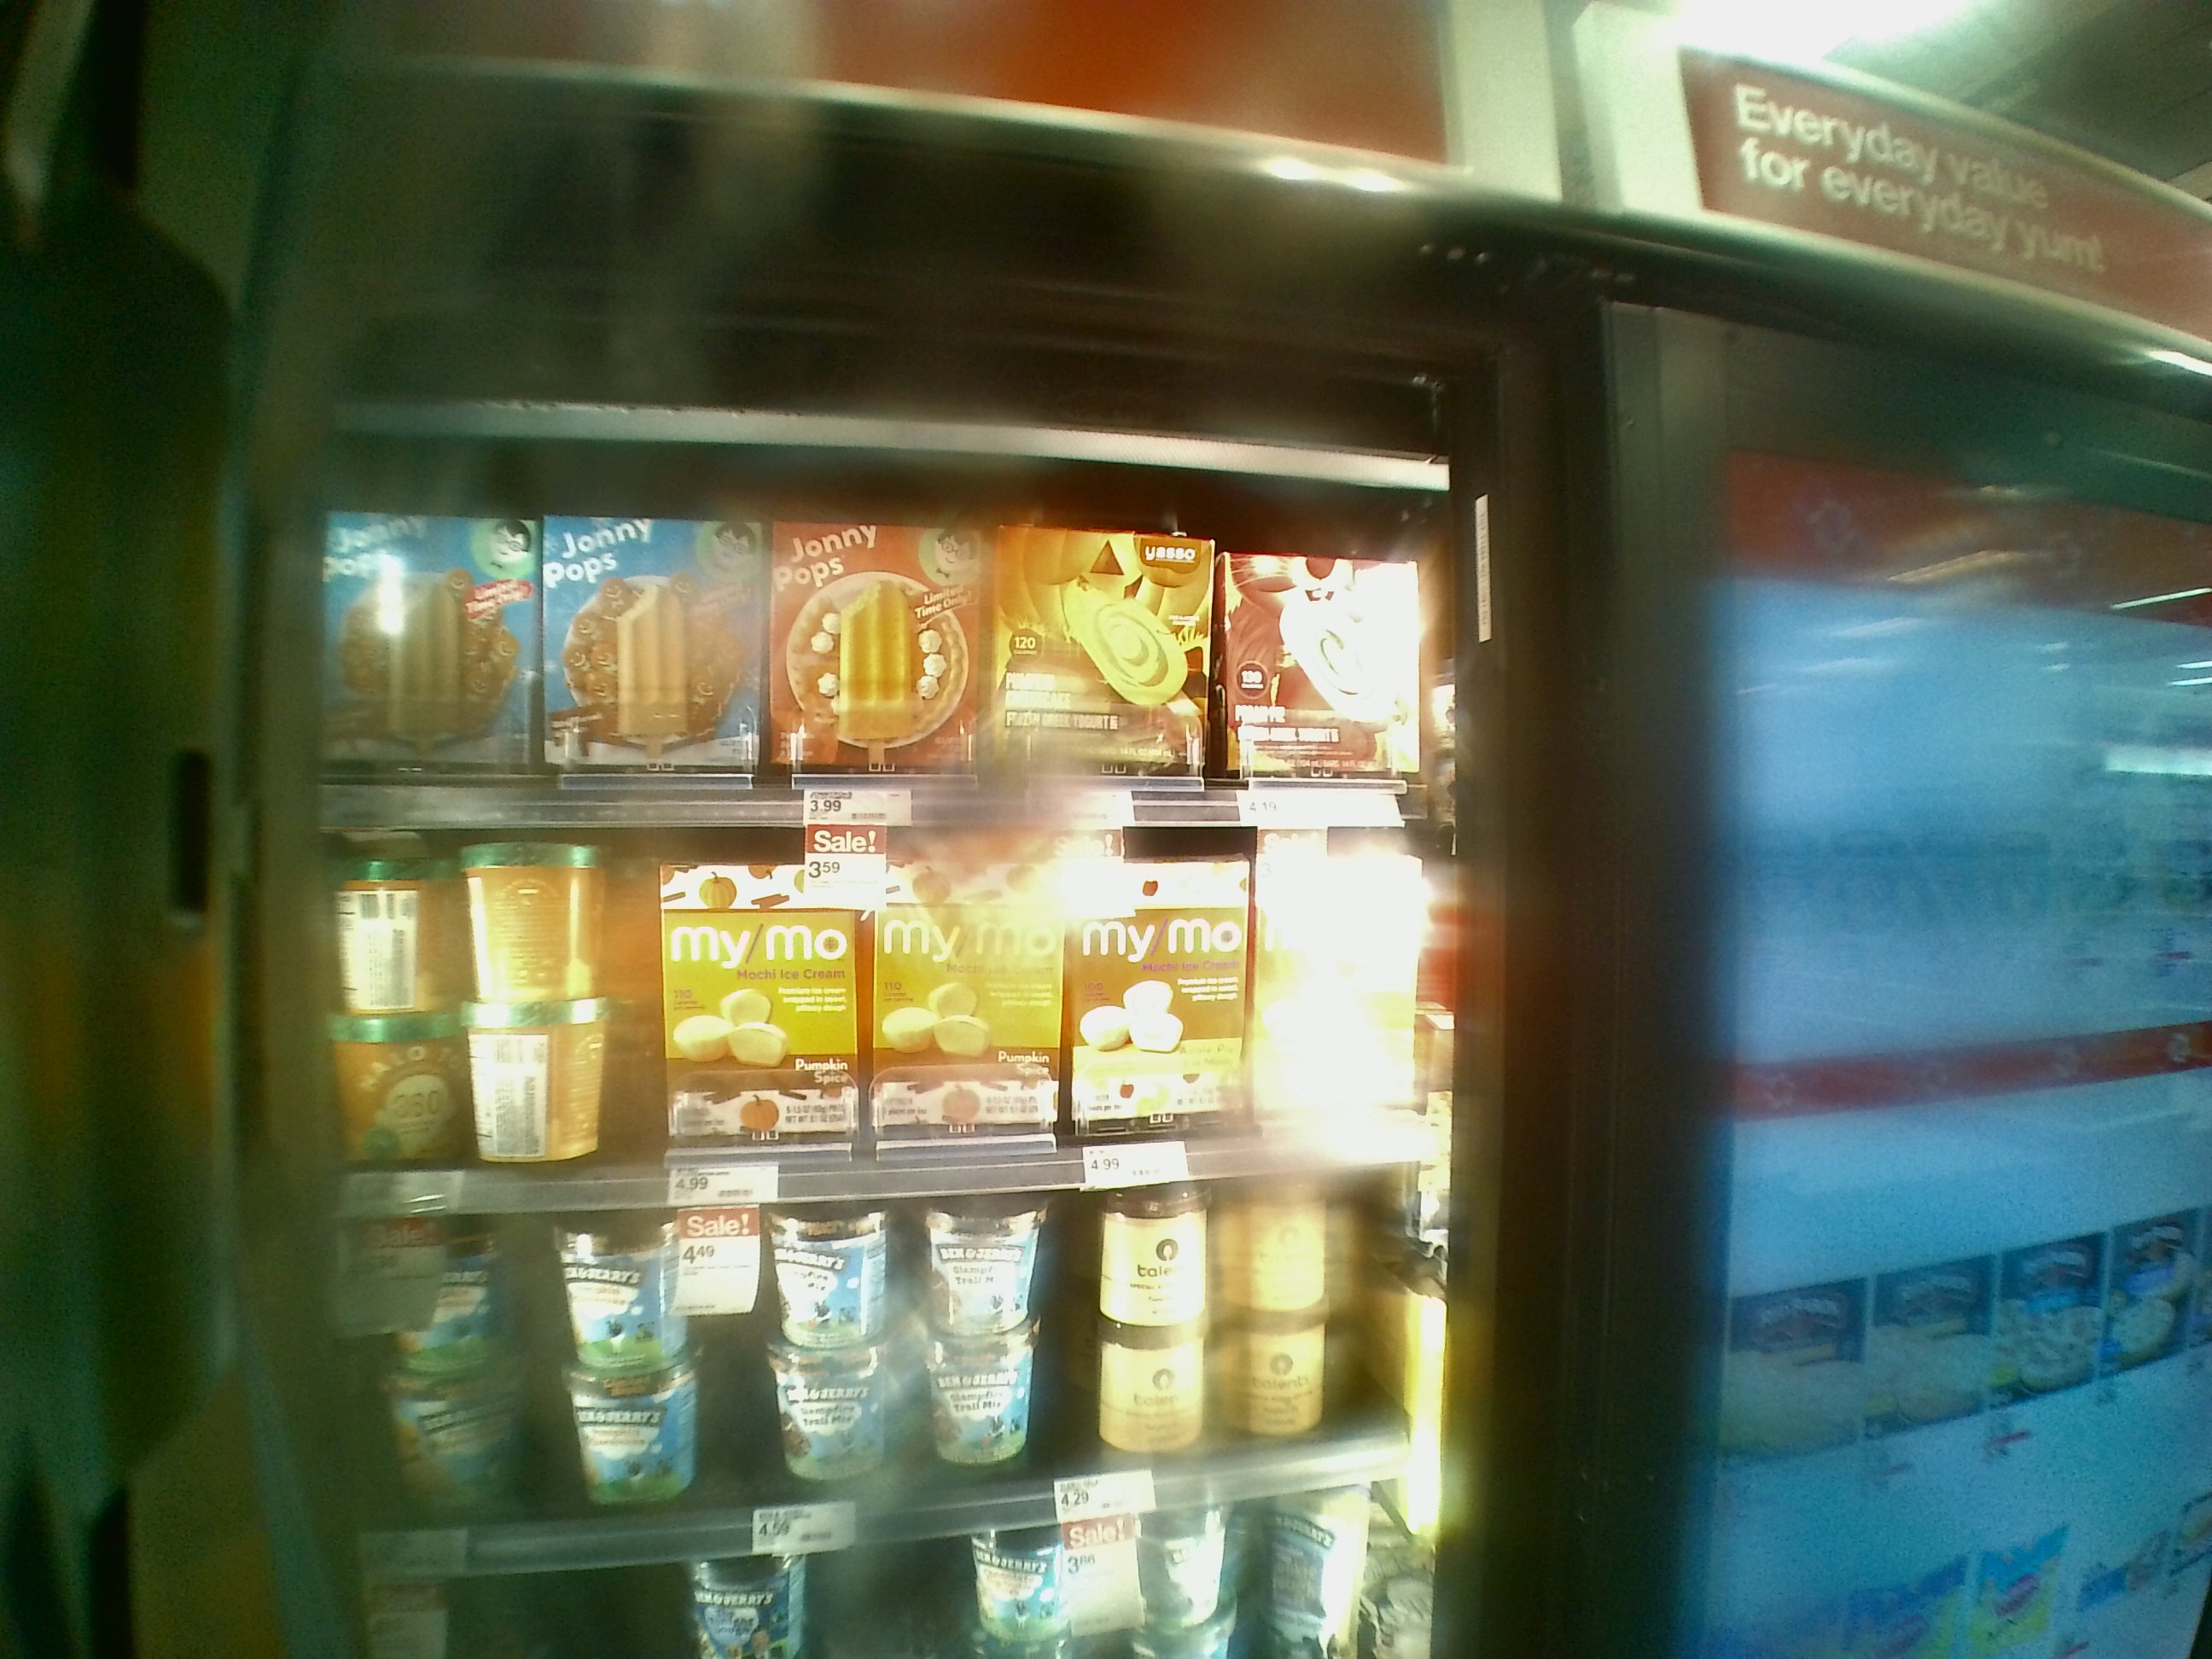shelf: (291, 427, 1456, 833), (268, 1187, 1486, 1567), (289, 826, 1460, 1195)
